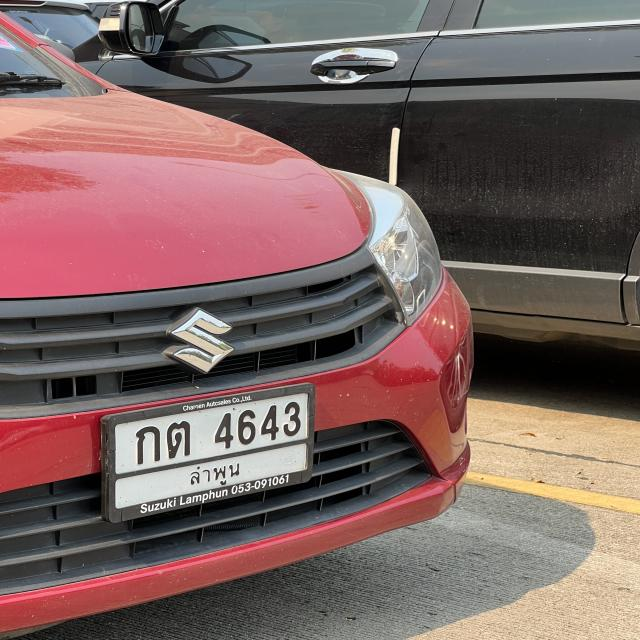license_plate: (92, 373, 321, 535)
